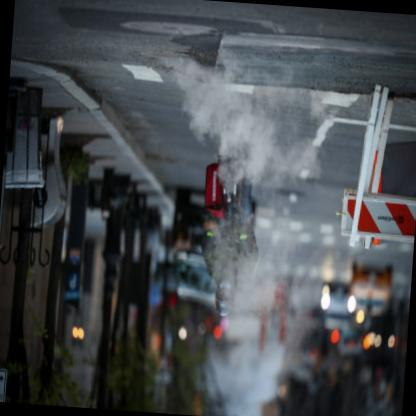manholes: (107, 8, 237, 64)
